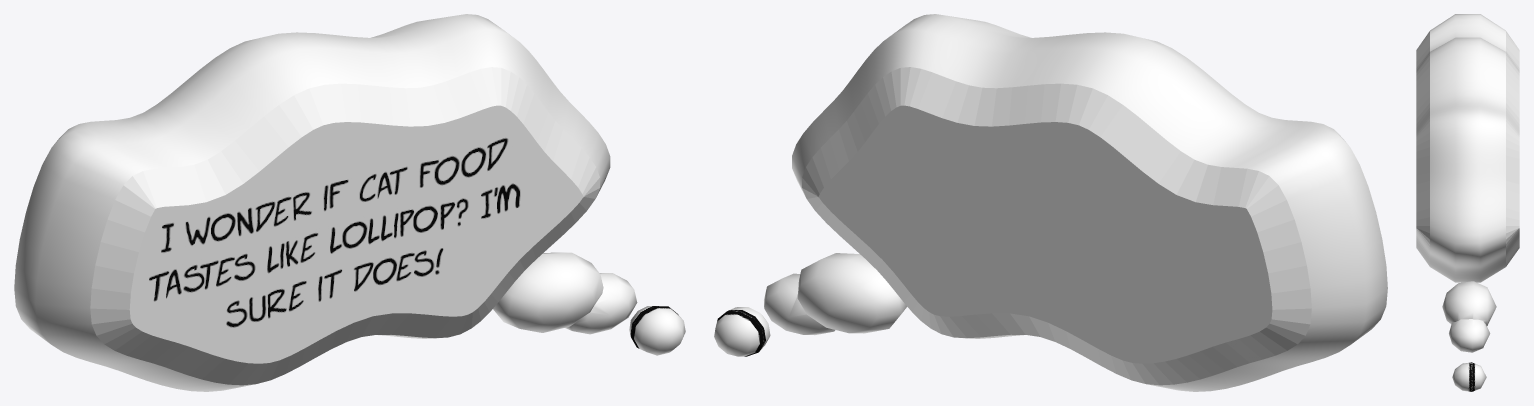
Rendered from bubble3D.FBX.
3 renders of one model, left to right at view 1: azimuth 30°, elevation 25°; view 2: azimuth 150°, elevation 25°; view 3: azimuth 270°, elevation 25°, orthographic. The views are drawn at different scales.
Parts seen in each view (by area): view 1: Line001, Sphere001, Sphere003; view 2: Line001, Sphere001, Sphere003; view 3: Line001, Sphere001, Sphere003.
Part boxes in pixels (<box>): Line001: <box>14,14,610,391</box>; Sphere001: <box>493,252,637,334</box>; Sphere003: <box>629,306,685,355</box>; Line001: <box>792,14,1387,391</box>; Sphere001: <box>764,253,907,335</box>; Sphere003: <box>714,307,770,356</box>; Line001: <box>1416,14,1519,282</box>; Sphere001: <box>1442,281,1496,352</box>; Sphere003: <box>1452,362,1486,391</box>.
Size of the model in its own units: 1611 by 939 by 370.
